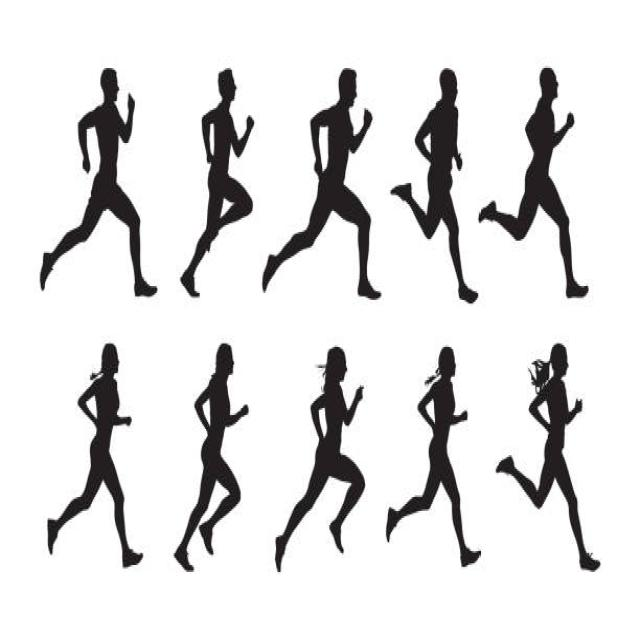Person: (263, 70, 380, 301), (41, 69, 156, 298), (478, 65, 589, 296), (495, 344, 601, 570), (386, 346, 481, 570), (48, 344, 142, 569), (391, 66, 478, 305), (276, 344, 364, 571), (172, 342, 249, 572), (181, 70, 253, 296)
